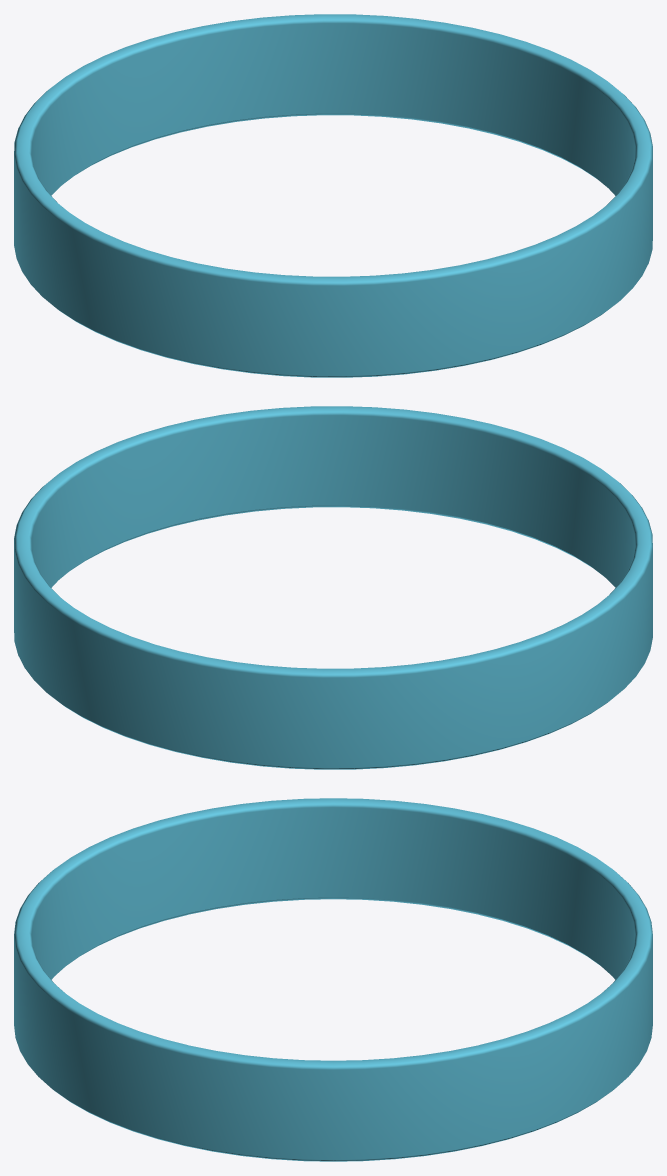
3 views of the same model, one above another, from view 1: azimuth 30°, elevation 25°; view 2: azimuth 150°, elevation 25°; view 3: azimuth 270°, elevation 25° (orthographic).
Parts seen in each view (by area): view 1: seal_body; view 2: seal_body; view 3: seal_body.
Boxes of the visible parts, x1,y1,x2,y2 form: seal_body: (14, 14, 652, 377); seal_body: (14, 406, 652, 769); seal_body: (14, 798, 652, 1161).
Size of the model in its own units: 0.1143 by 0.0191 by 0.1143.
